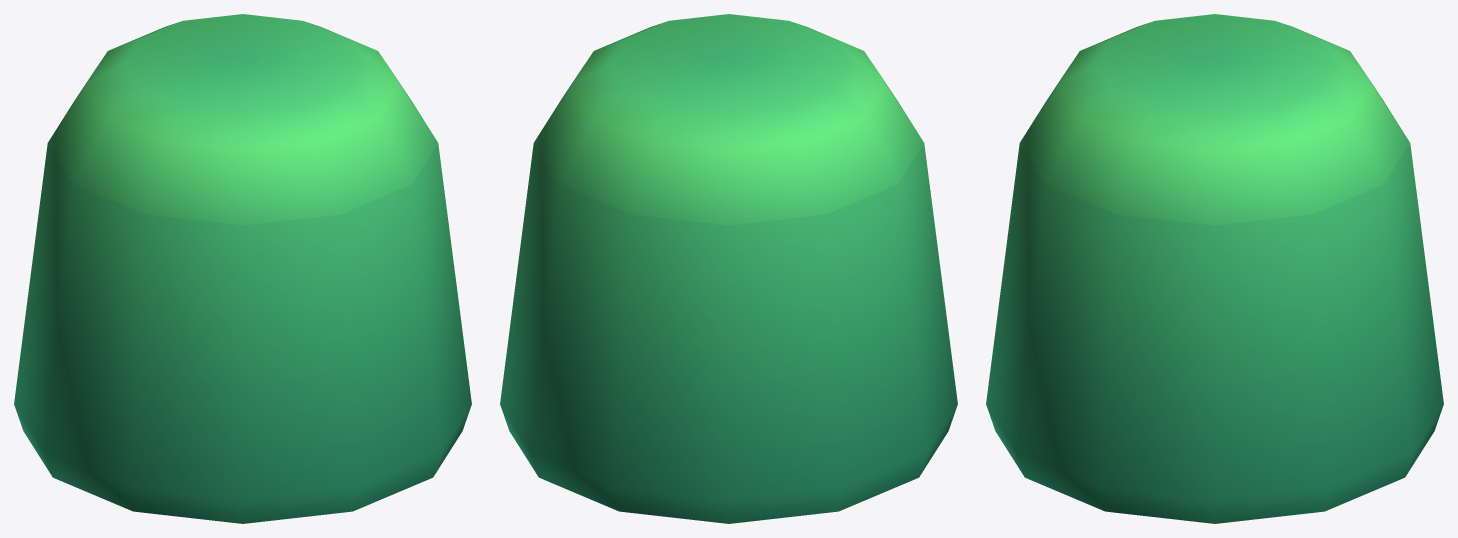
File: candy_B_green.obj
The picture shows the model from 3 angles, left to right: view 1: azimuth 30°, elevation 25°; view 2: azimuth 150°, elevation 25°; view 3: azimuth 270°, elevation 25°; orthographic projection.
Visible parts, largest first — view 1: candy_B_green; view 2: candy_B_green; view 3: candy_B_green.
Boxes of the visible parts, left/top/right/bottom form: candy_B_green: left=14, top=14, right=471, bottom=523; candy_B_green: left=500, top=14, right=957, bottom=523; candy_B_green: left=986, top=14, right=1443, bottom=523.
Size of the model in its own units: 0.6776 by 0.6252 by 0.6776.
Materials: 1 (1 with a texture image).
